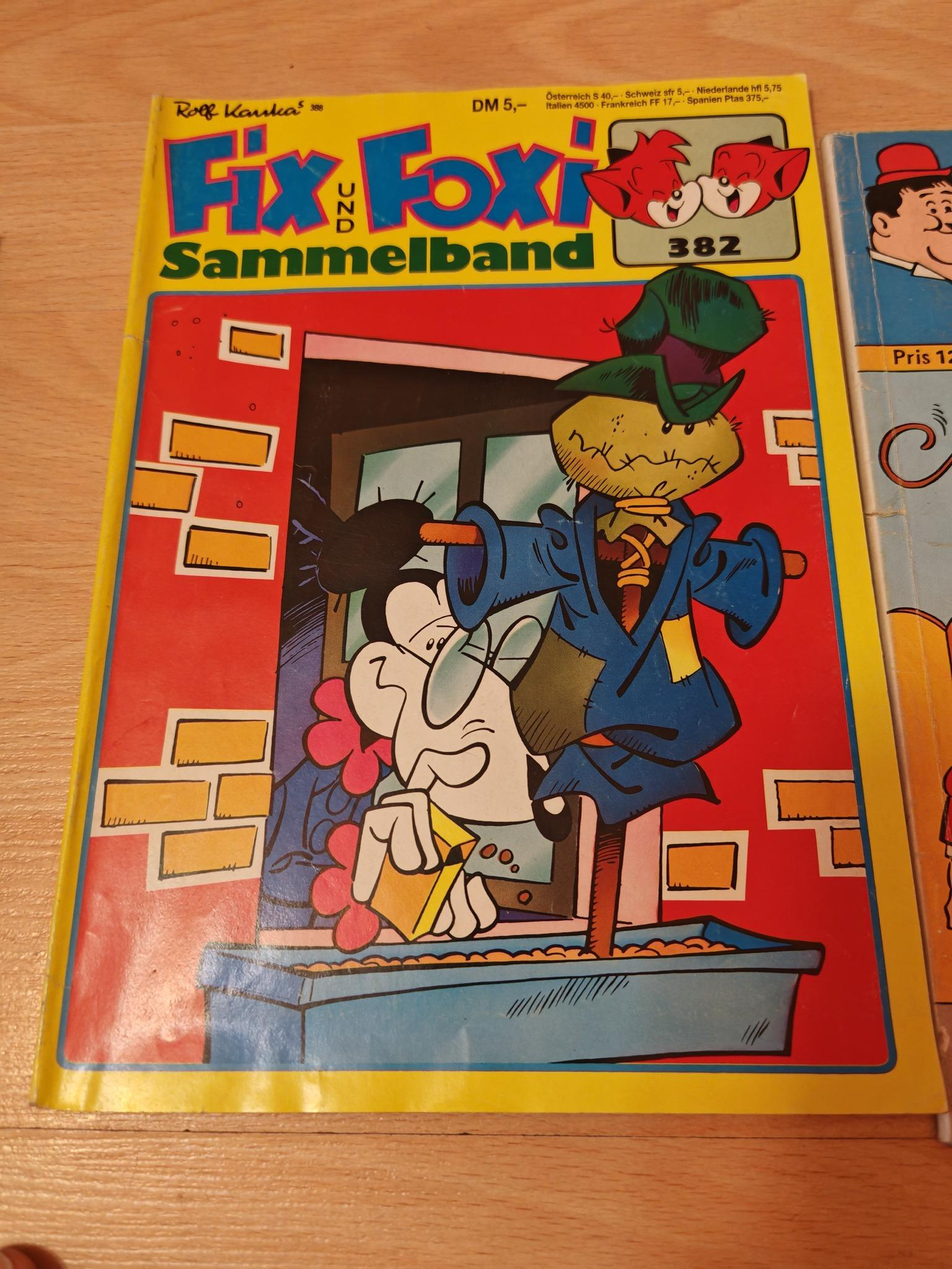comic: (36, 75, 947, 1111)
